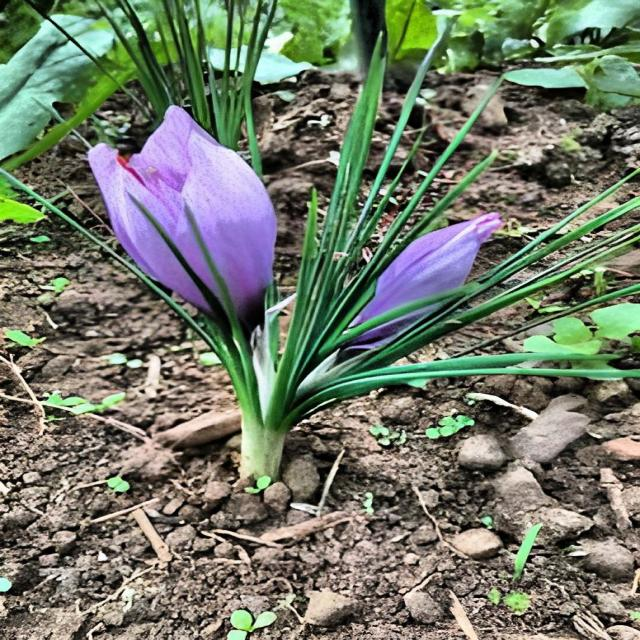Flower: (80, 101, 284, 348), (340, 205, 510, 353)
